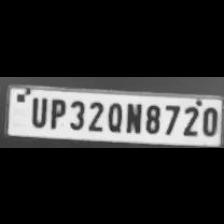0: (198, 102, 218, 136)
2: (179, 102, 199, 136), (86, 97, 104, 130)
3: (66, 96, 86, 128)
7: (160, 100, 180, 134)
8: (141, 100, 161, 132)
N: (123, 99, 143, 133)
P: (45, 94, 65, 128)
Q: (105, 99, 123, 131)
U: (26, 94, 48, 126)
